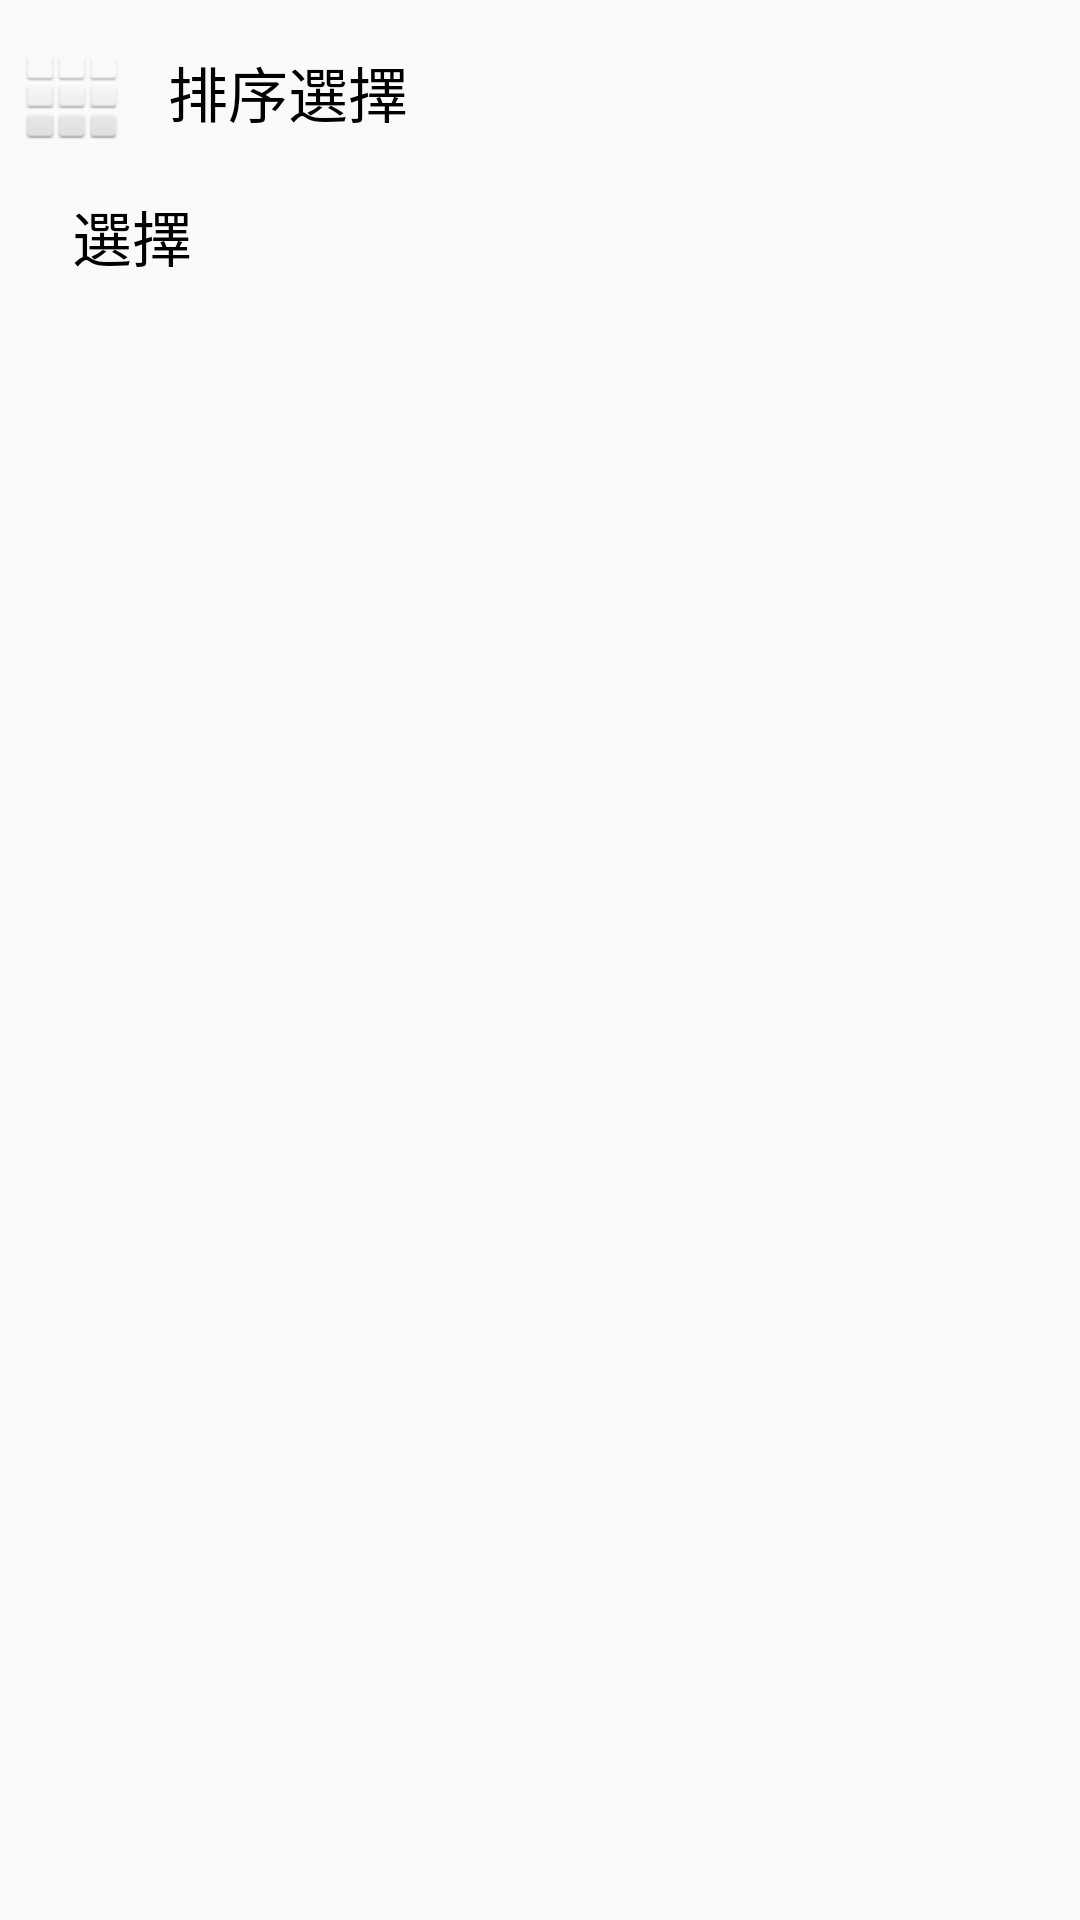

Icons on this 1080x1920 Android screen, each with the point to tap as (x,y):
dialer: (71,107)
